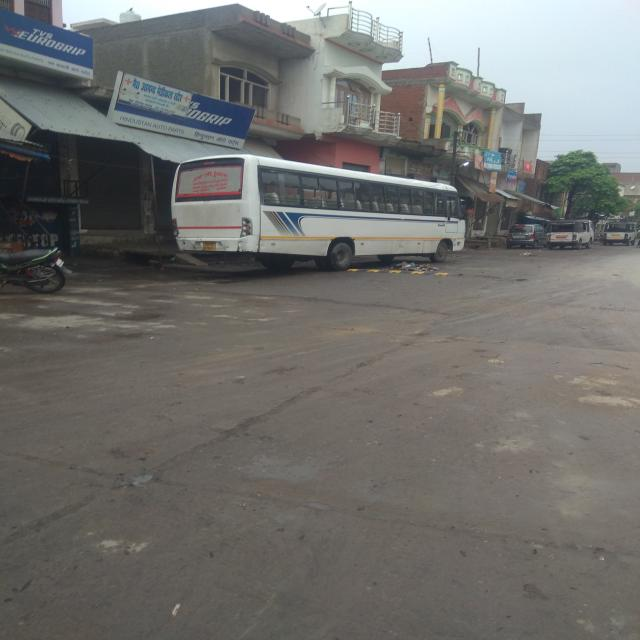Bus: (172, 155, 465, 270)
Two Wheeler: (0, 248, 72, 294)
